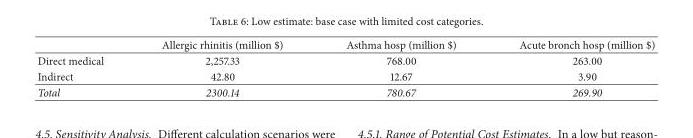table: (36, 36, 654, 99)
table column: (132, 36, 313, 99), (313, 36, 487, 99), (487, 36, 654, 99), (36, 36, 132, 99)
table column header: (36, 36, 654, 52)
table row: (36, 36, 654, 52), (36, 52, 654, 68), (36, 83, 654, 99), (36, 68, 654, 83)
